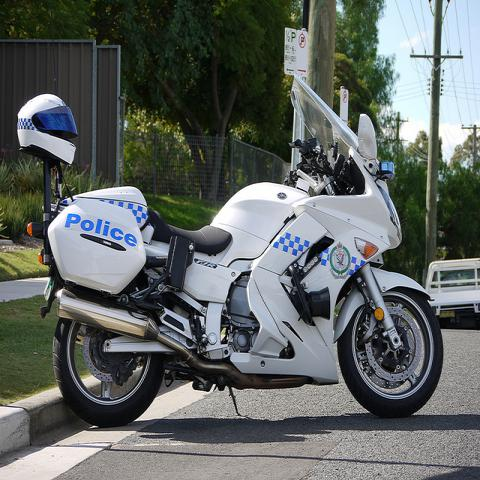motorcycle: (17, 71, 447, 426)
truck: (426, 258, 479, 328)
